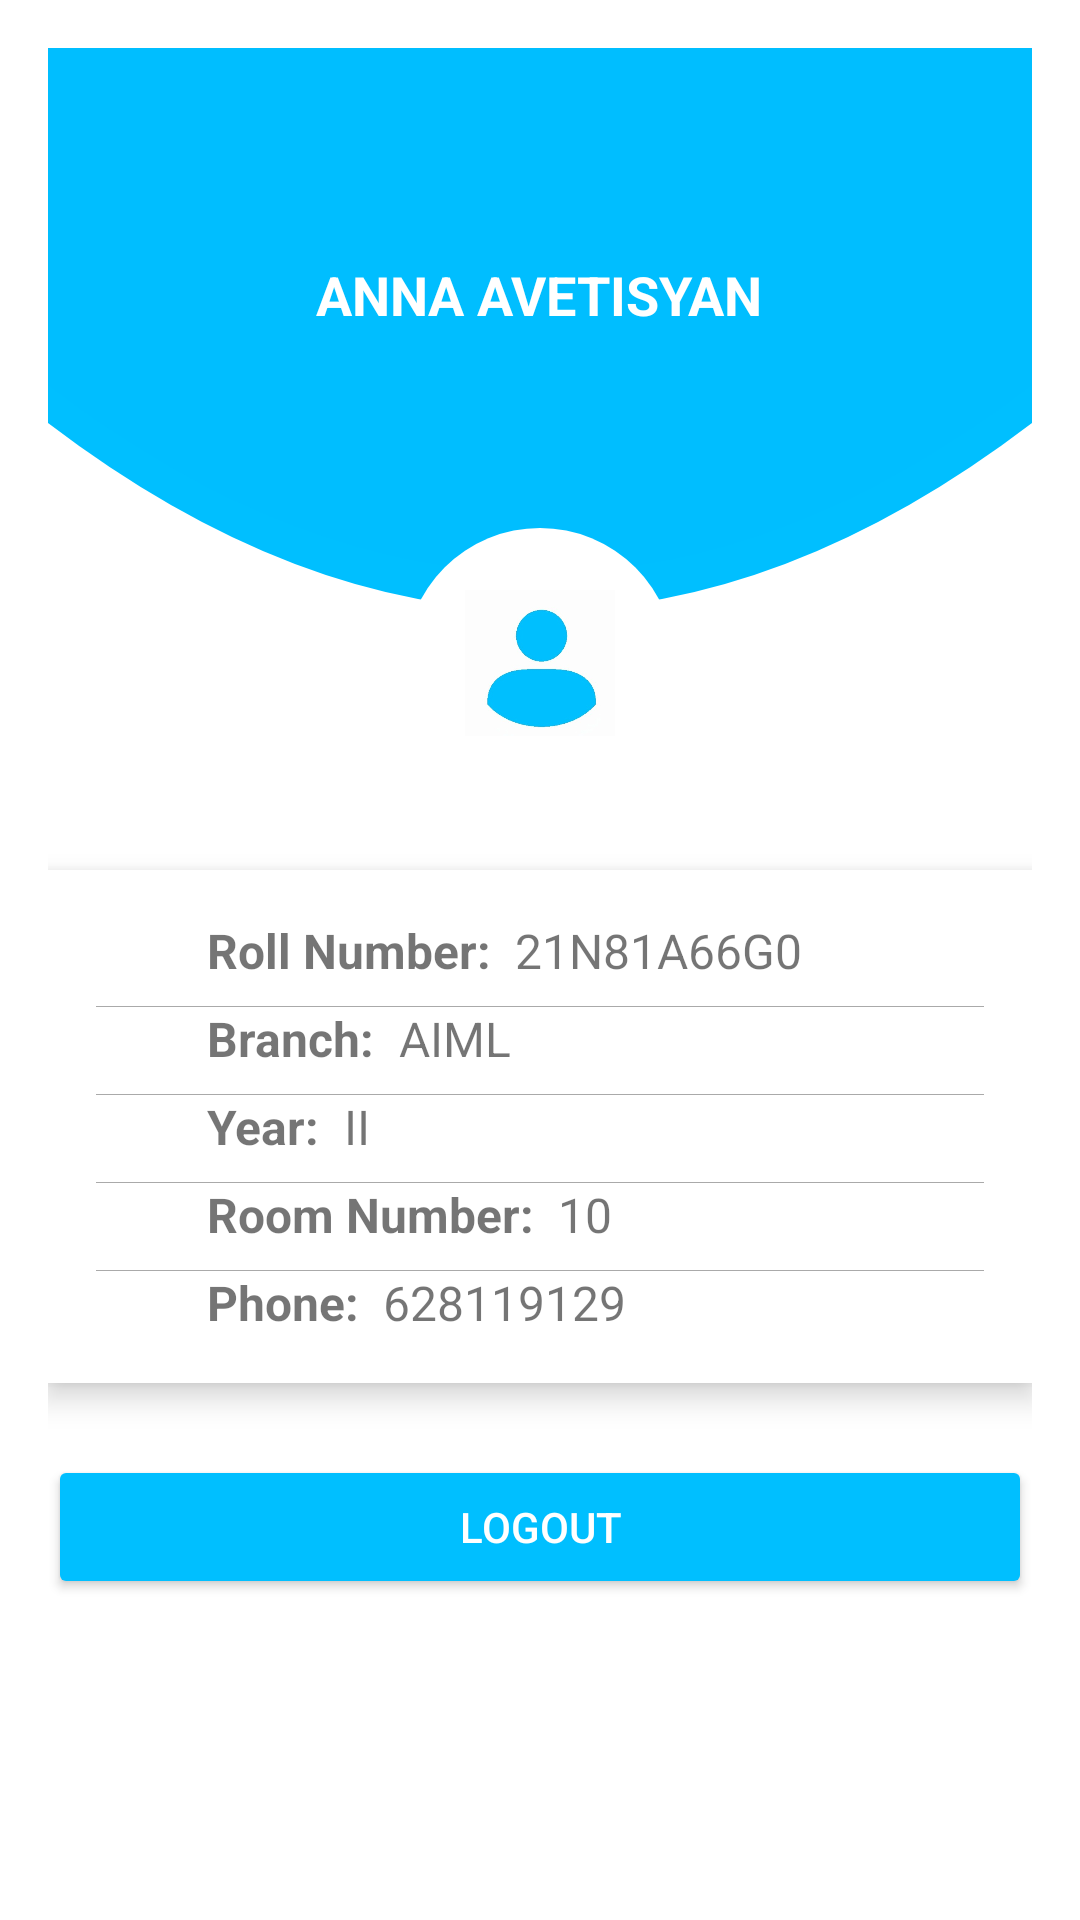

Point at icon controls on the screen. Image size 1080 x 1920, points as point (x, y).
Profile Icon: point (541, 668)
